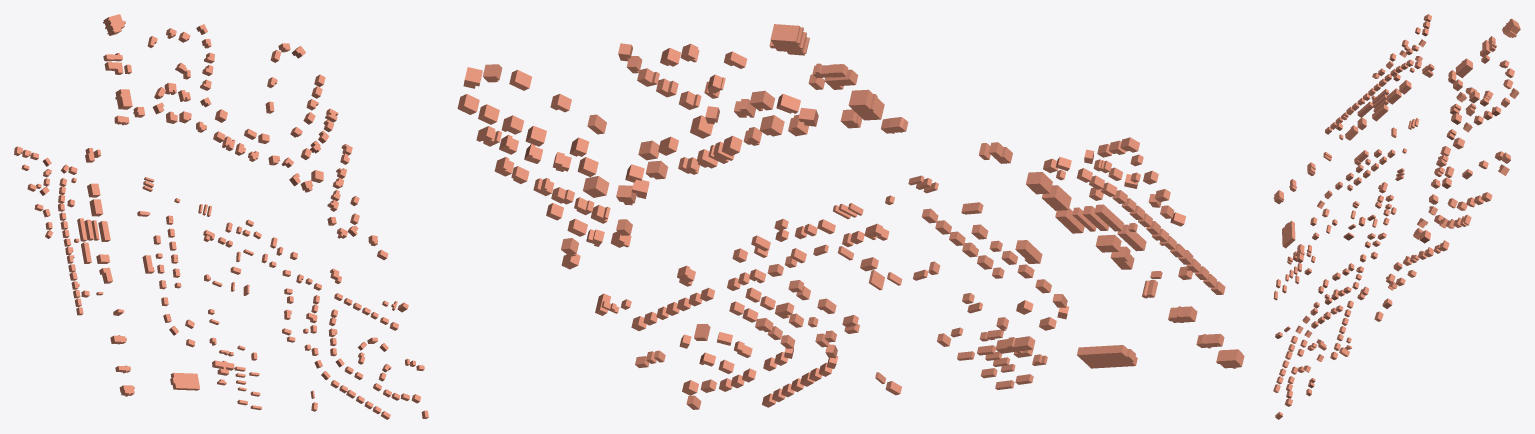
3 renders of one model, left to right at view 1: azimuth 30°, elevation 25°; view 2: azimuth 150°, elevation 25°; view 3: azimuth 270°, elevation 25°, orthographic. The views are drawn at different scales.
Parts seen in each view (by area): view 1: mesh; view 2: mesh; view 3: mesh.
Boxes of the visible parts, x1,y1,x2,y2 form: mesh: (14,14,428,419); mesh: (457,24,1244,409); mesh: (1273,14,1520,419).
Size of the model in its own units: 866 by 843 by 594.
